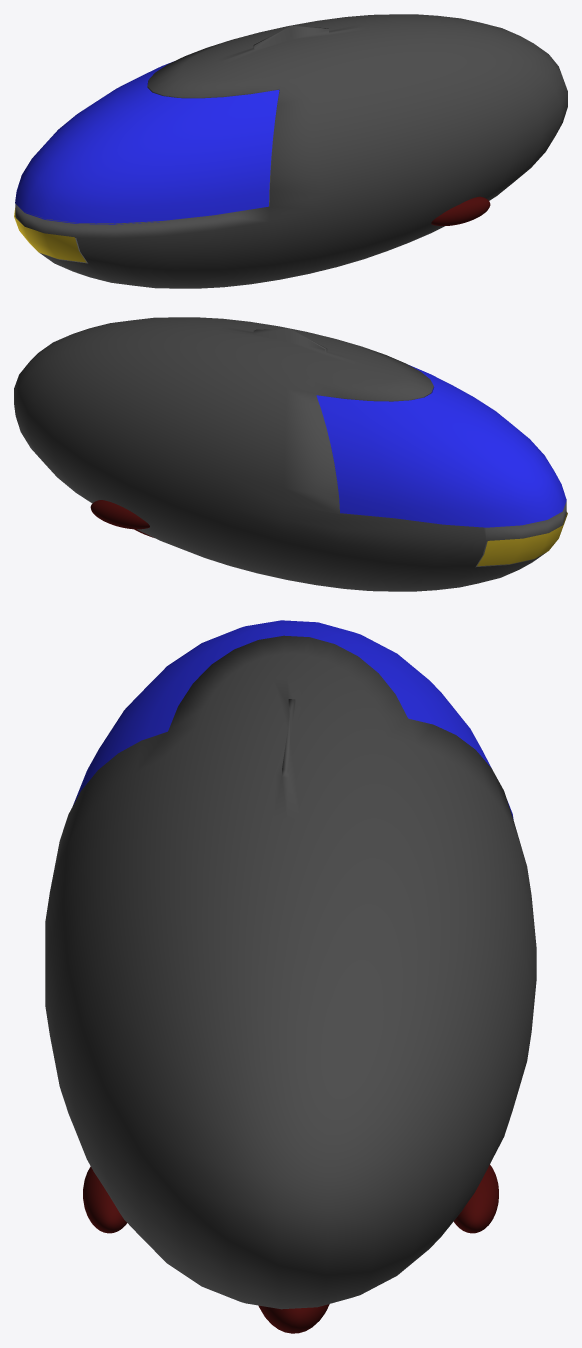
File: Submarino united.fbx
The picture shows the model from 3 angles, top to bottom: view 1: azimuth 30°, elevation 25°; view 2: azimuth 150°, elevation 25°; view 3: azimuth 270°, elevation 25°; orthographic projection. The views are drawn at different scales.
Visible parts, largest first — view 1: Sphere.006; view 2: Sphere.006; view 3: Sphere.006.
Part boxes in pixels (<box>): Sphere.006: <box>14,14,567,288</box>; Sphere.006: <box>14,317,567,591</box>; Sphere.006: <box>45,620,536,1333</box>.
Bounding box in the file's own units: 1811 × 767 × 713.
